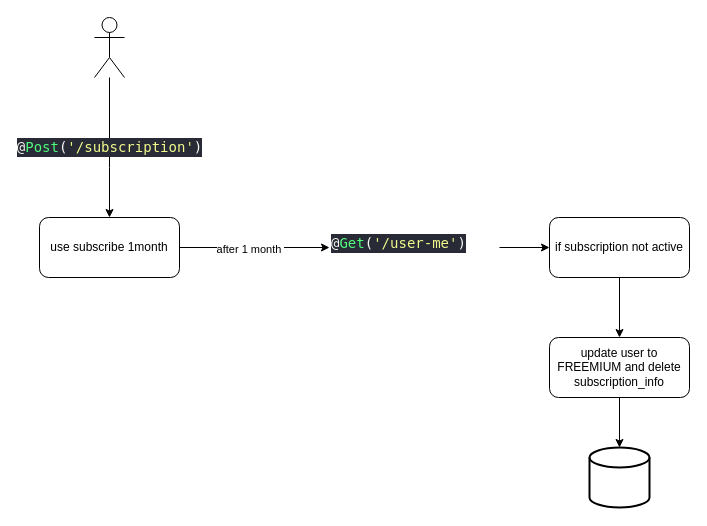
The diagram is 707 pixels wide and 526 high, and some of its shapes have lost their labels. Here are the shapes that lost their labels. From the top down, the centre of each, then its label:
point (109, 47): Actor
point (619, 477): user
